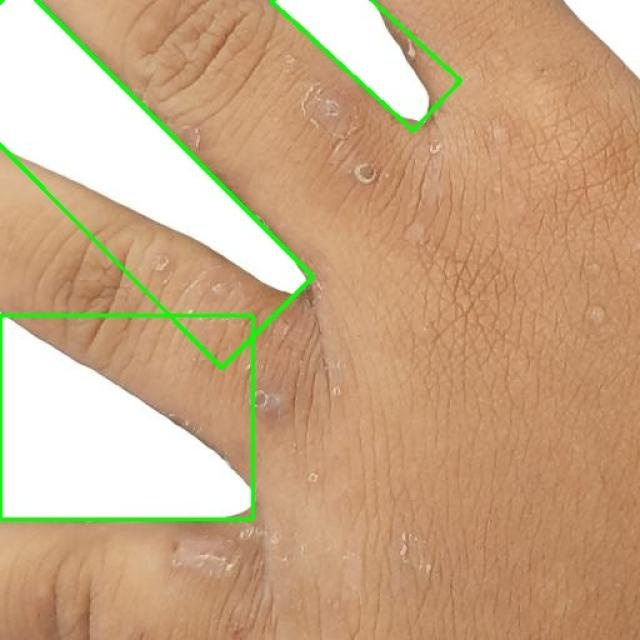Scabies: (0, 0, 314, 368), (0, 315, 252, 519), (272, 0, 460, 131)
